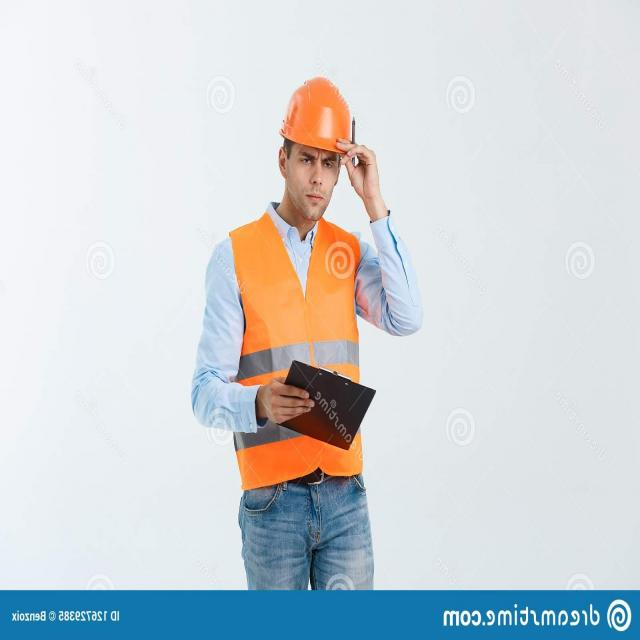Reflective-Jacket: (225, 215, 368, 487)
Safety-Helmet: (278, 74, 354, 156)
